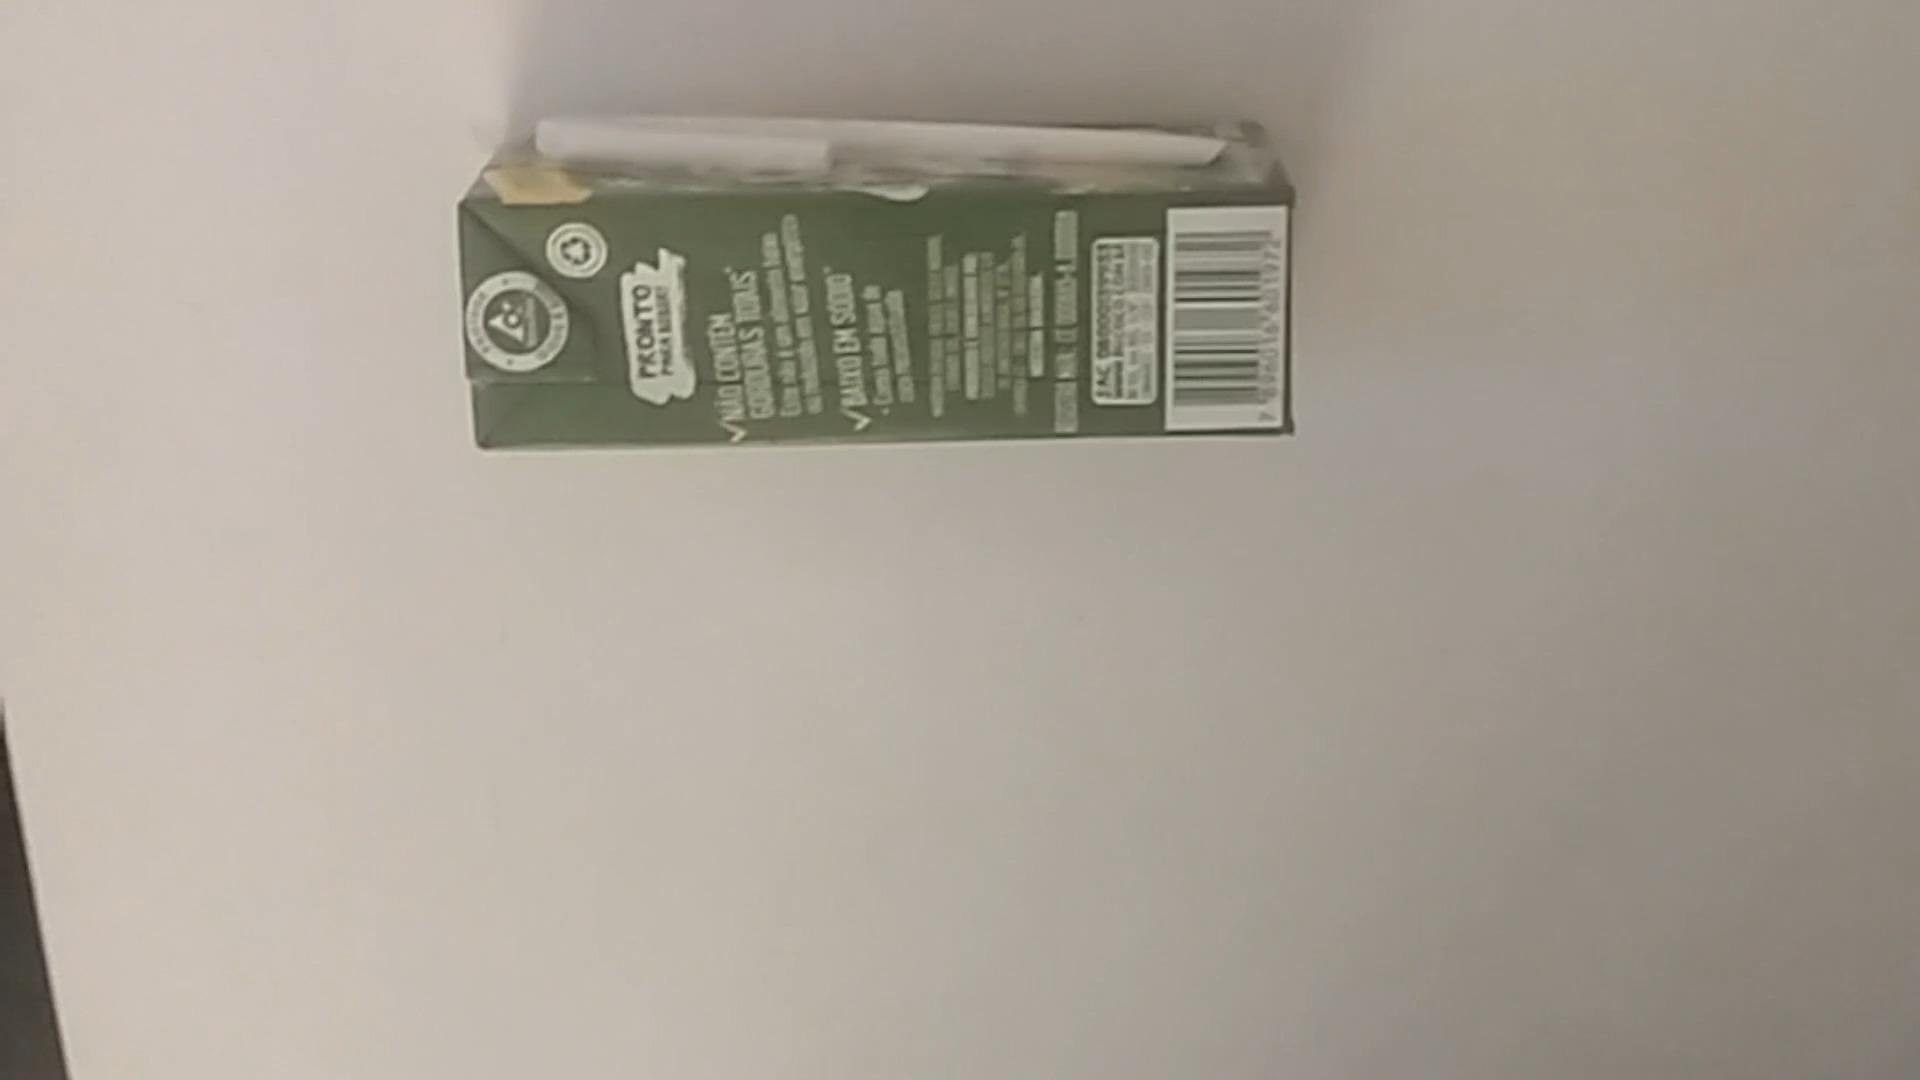coco: (464, 119, 1288, 458)
